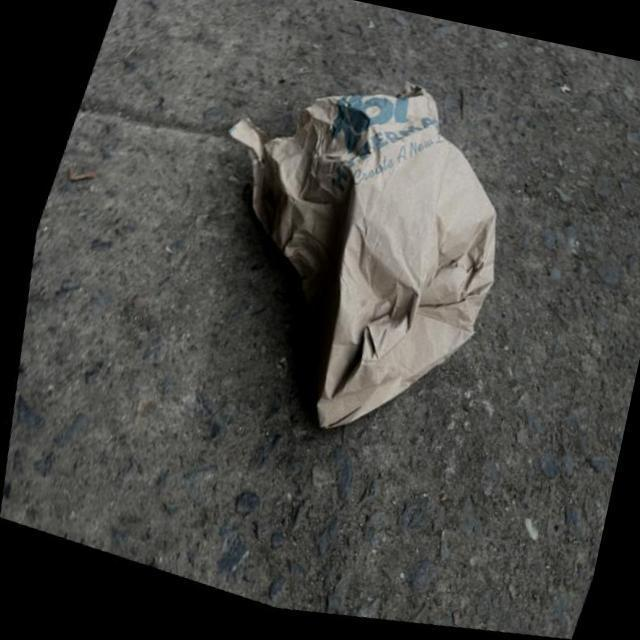Paper_Bag: (101, 0, 578, 511)
